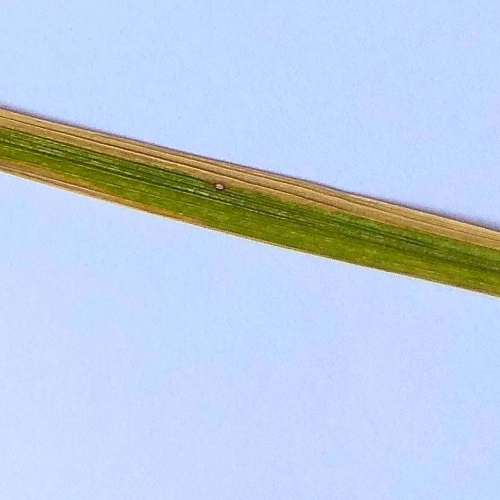Busuk Leher: (18, 108, 108, 143), (97, 124, 187, 159), (176, 144, 266, 179), (246, 158, 336, 193), (309, 178, 399, 213), (380, 196, 470, 231), (205, 172, 236, 200)
